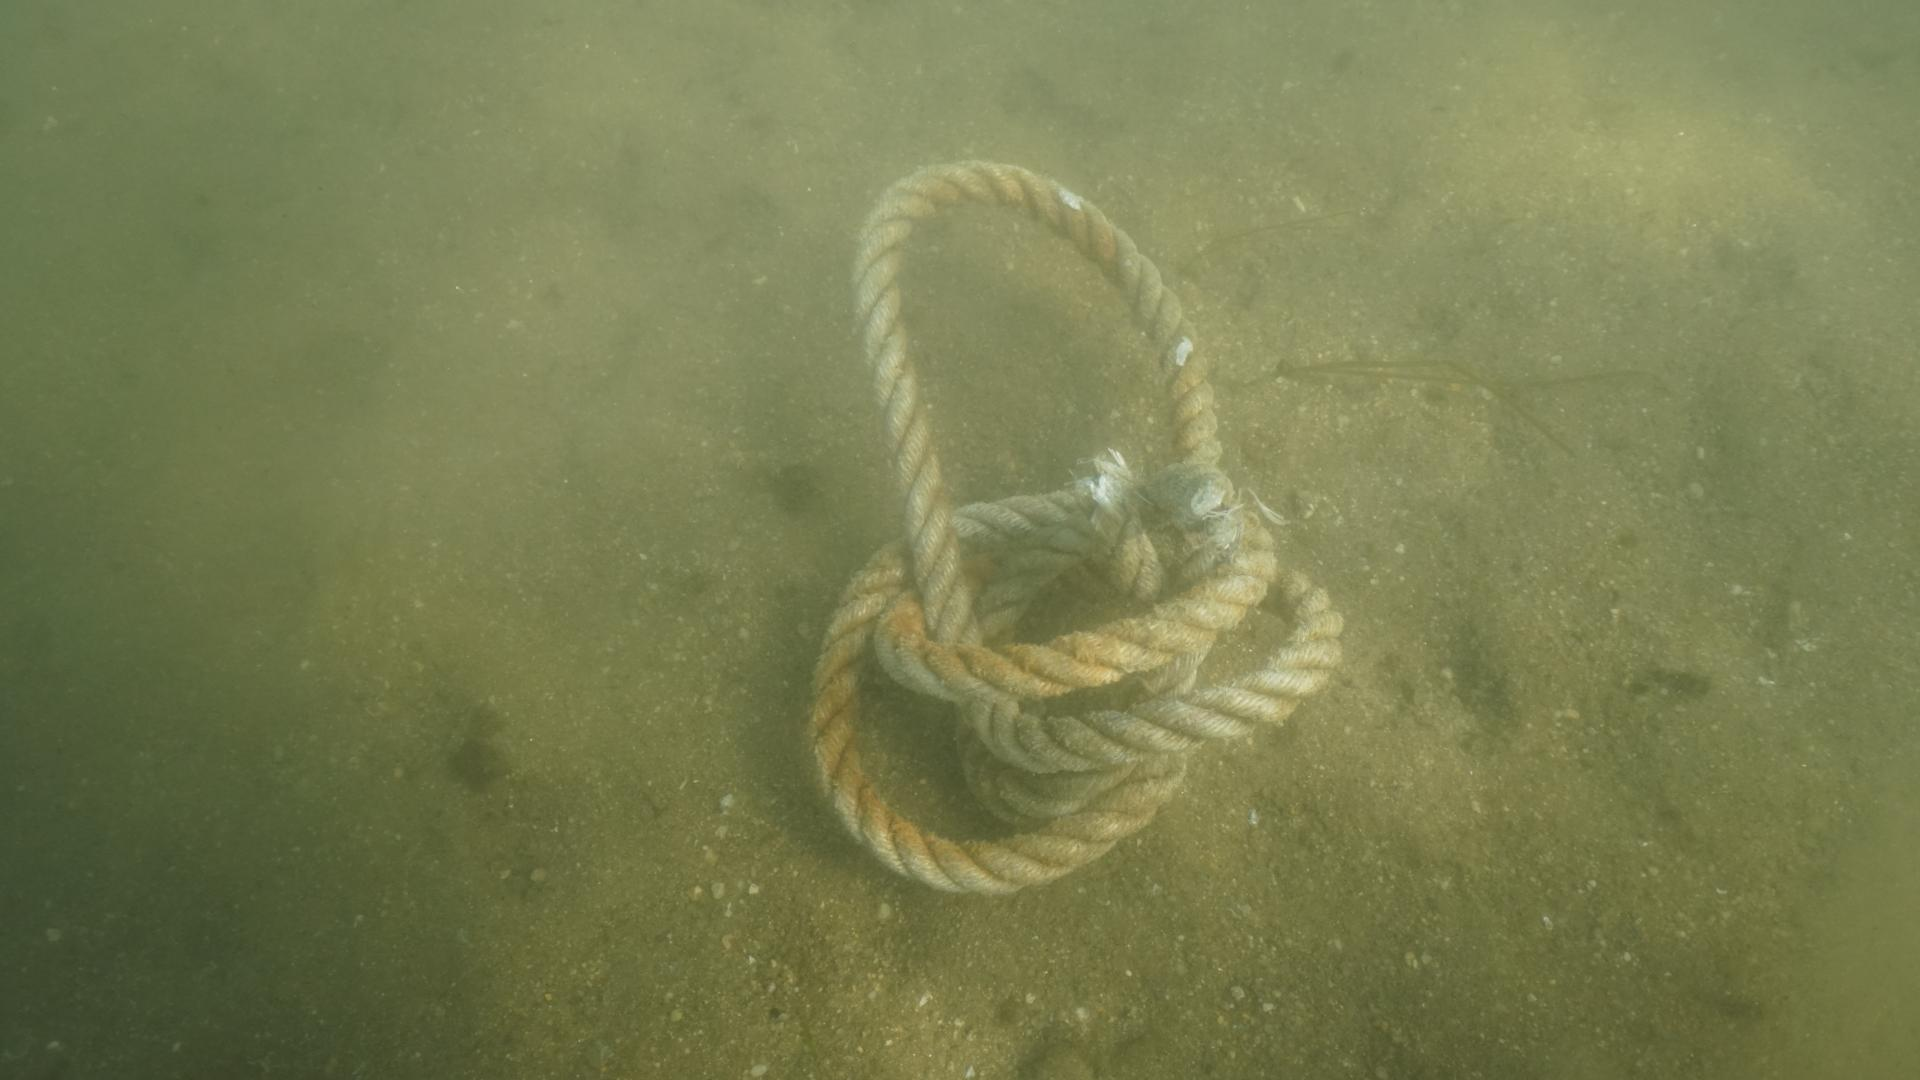bundle of ropes: (800, 156, 1341, 897)
